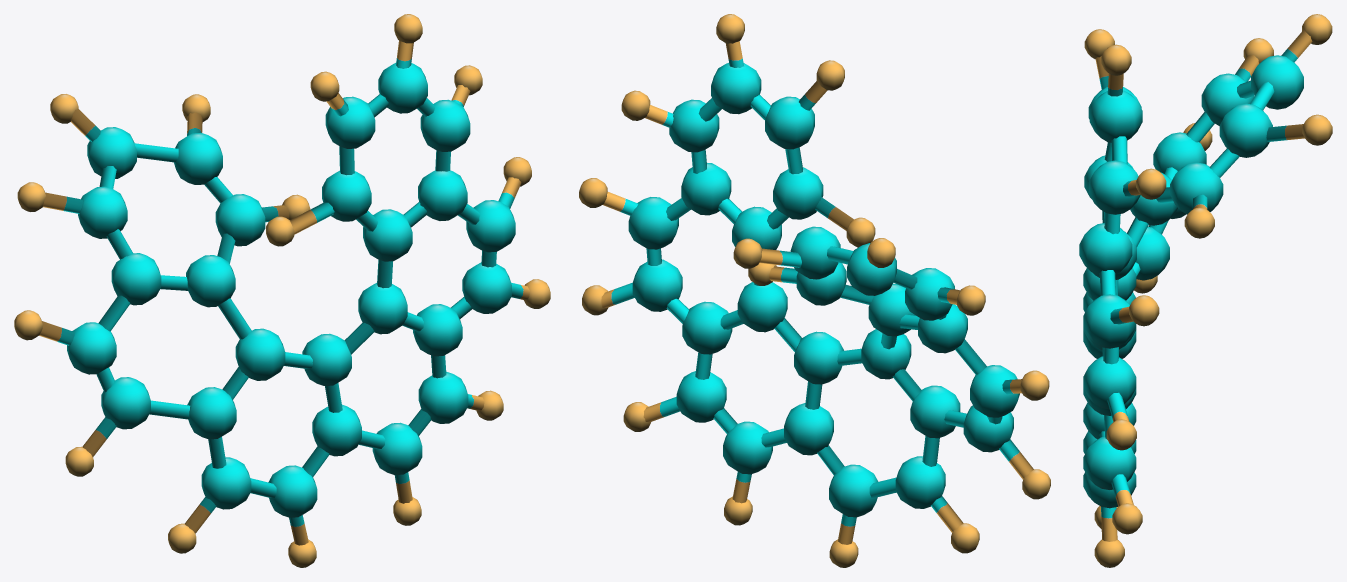
The model's file is Hexahelicene.dae.
3 views of the same model, side by side, from view 1: azimuth 30°, elevation 25°; view 2: azimuth 150°, elevation 25°; view 3: azimuth 270°, elevation 25° (orthographic). The views are drawn at different scales.
Visible parts, largest first — view 1: polySurface1; view 2: polySurface1; view 3: polySurface1.
Boxes of the visible parts, box(x1,y1,x2,y2) form: polySurface1: box(14, 14, 550, 567); polySurface1: box(579, 14, 1050, 567); polySurface1: box(1079, 14, 1332, 567).
Size of the model in its own units: 5.97 by 5.99 by 2.55.
Materials: 1 (1 with a texture image).
